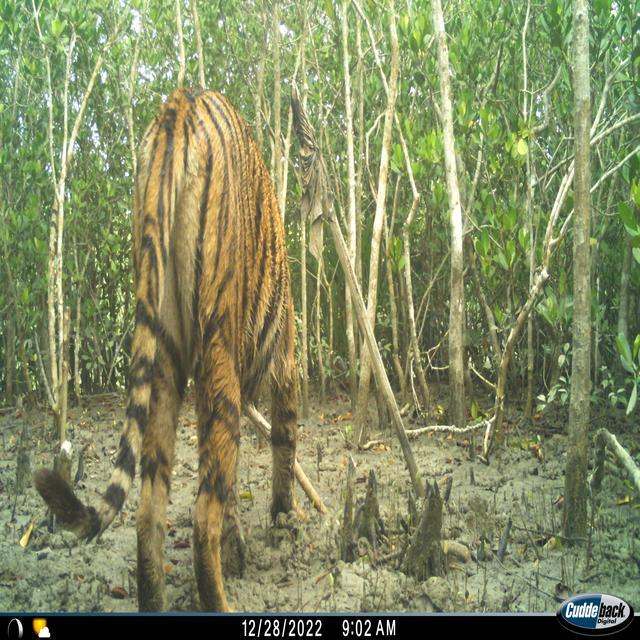tiger: (33, 85, 328, 612)
